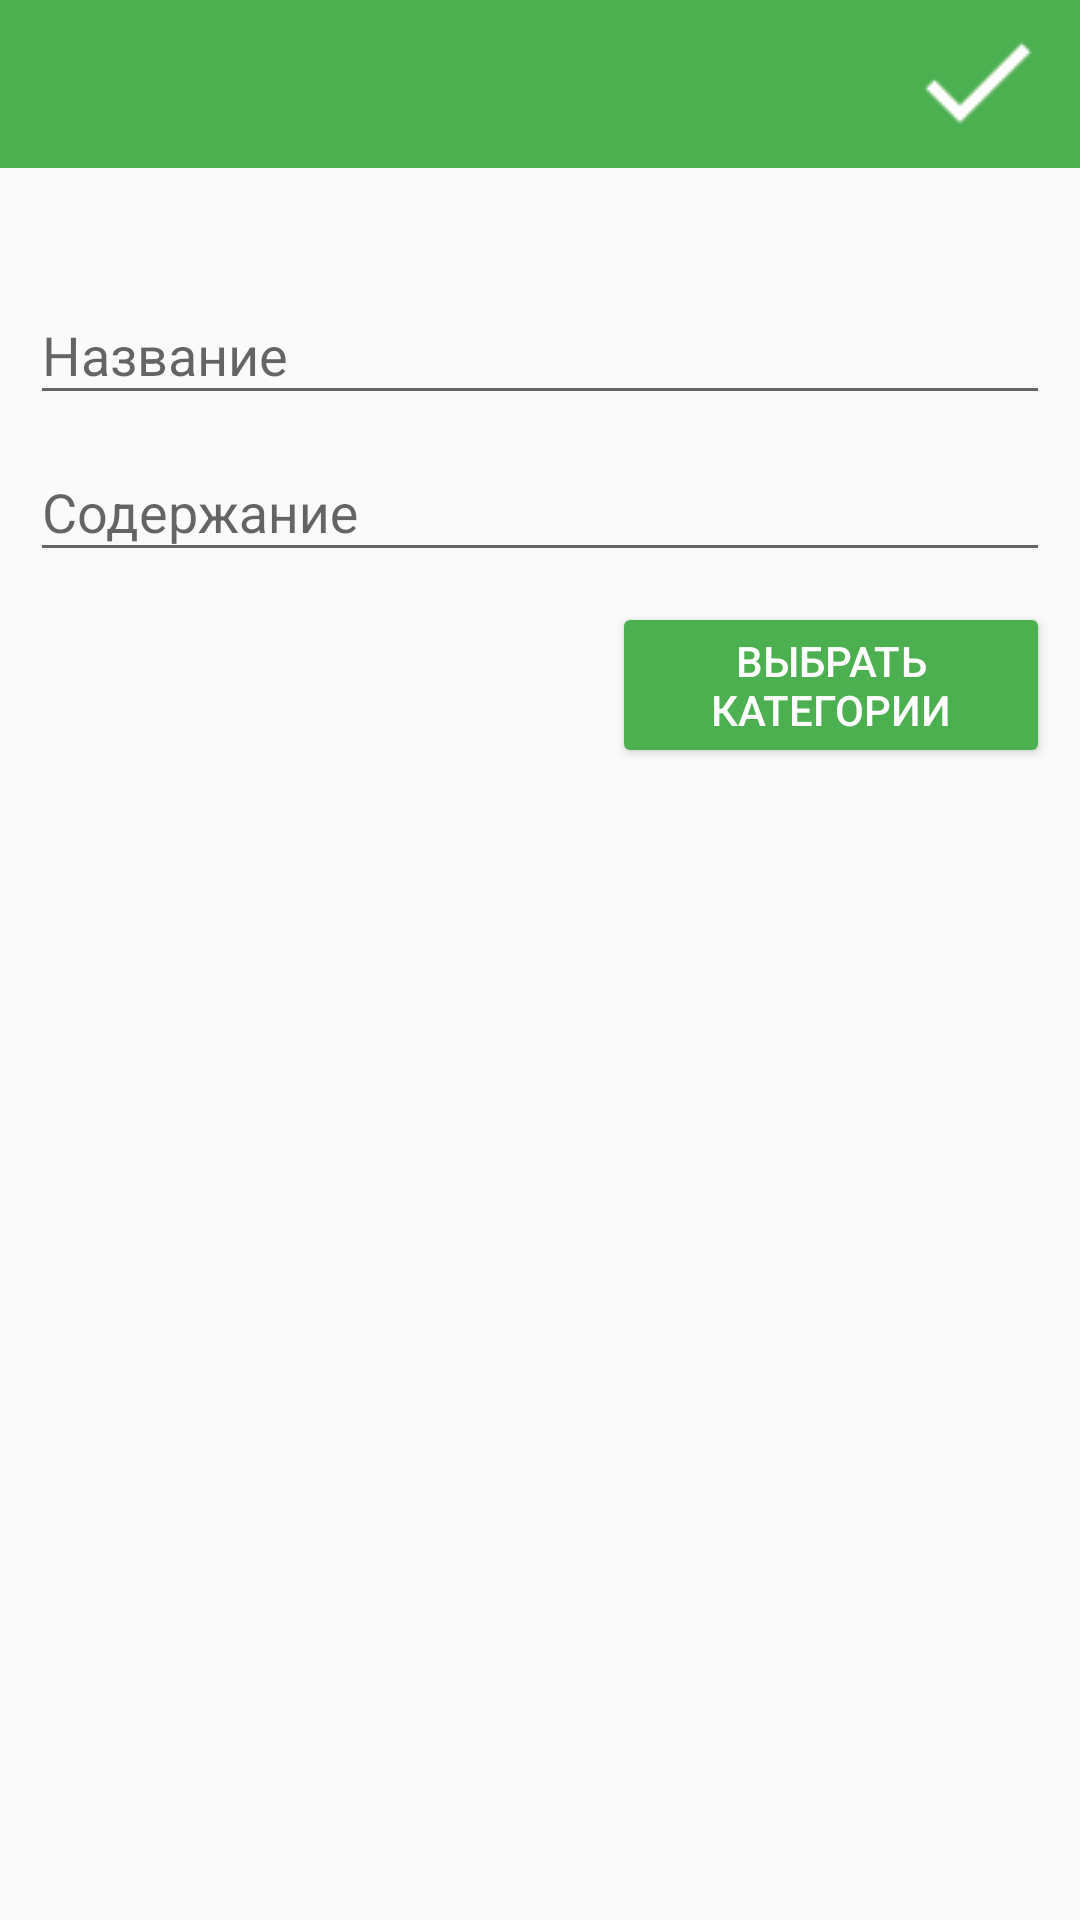

Named icons in this screenshot (1080px x 1920px) and their bounding boxes, (left=x1, top=y1, right=x2, bottom=y2):
Сохранить: (left=926, top=42, right=1032, bottom=123)
